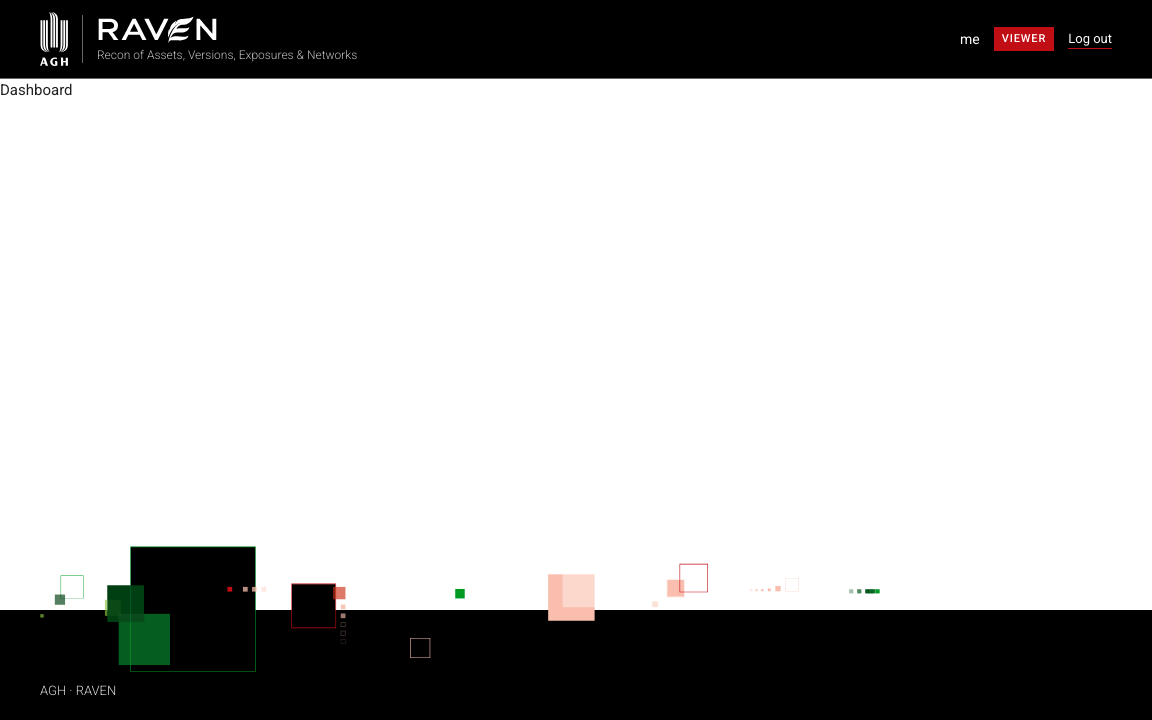
Test: ProfilePage › opens the signed-in user profile from the top bar (viewer)
This screenshot has width=1152, height=720.
Click the link "me": {"x": 970, "y": 39} [960, 29, 980, 49]
(page scrolled)
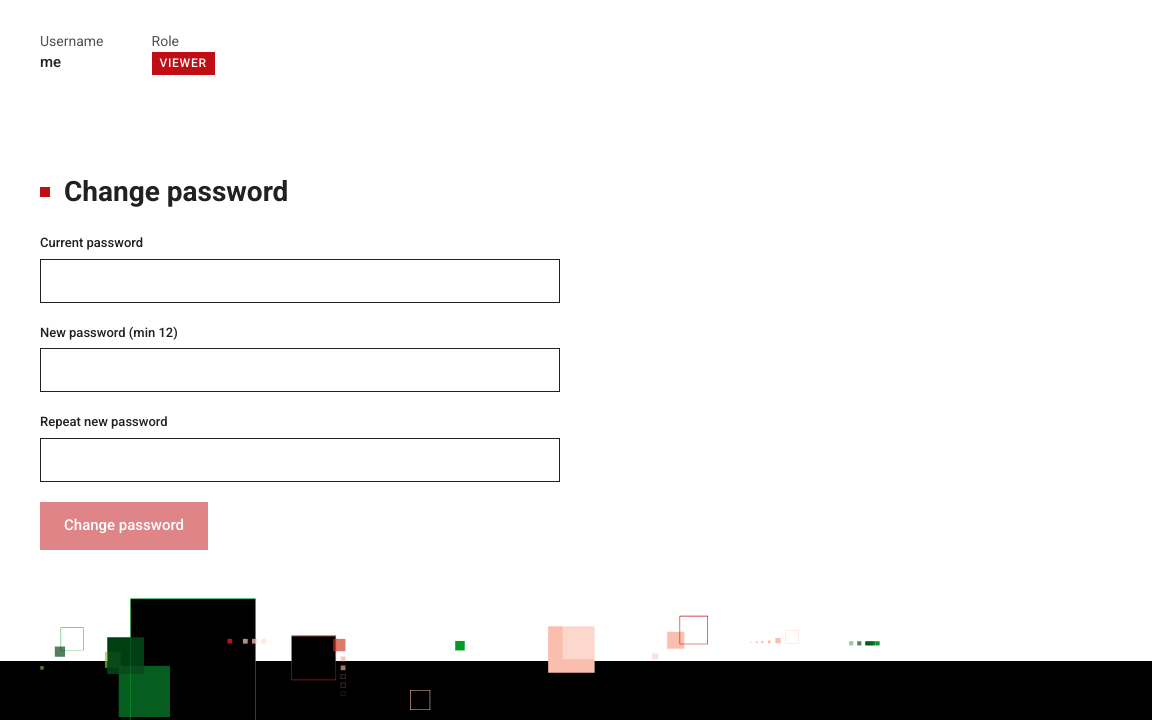
Now the text "me" is shown, box [40, 53, 61, 71]
Now the element showing "viewer" is shown, box [152, 51, 215, 75]
Now the form "Change password" is shown, box [40, 171, 560, 550]
